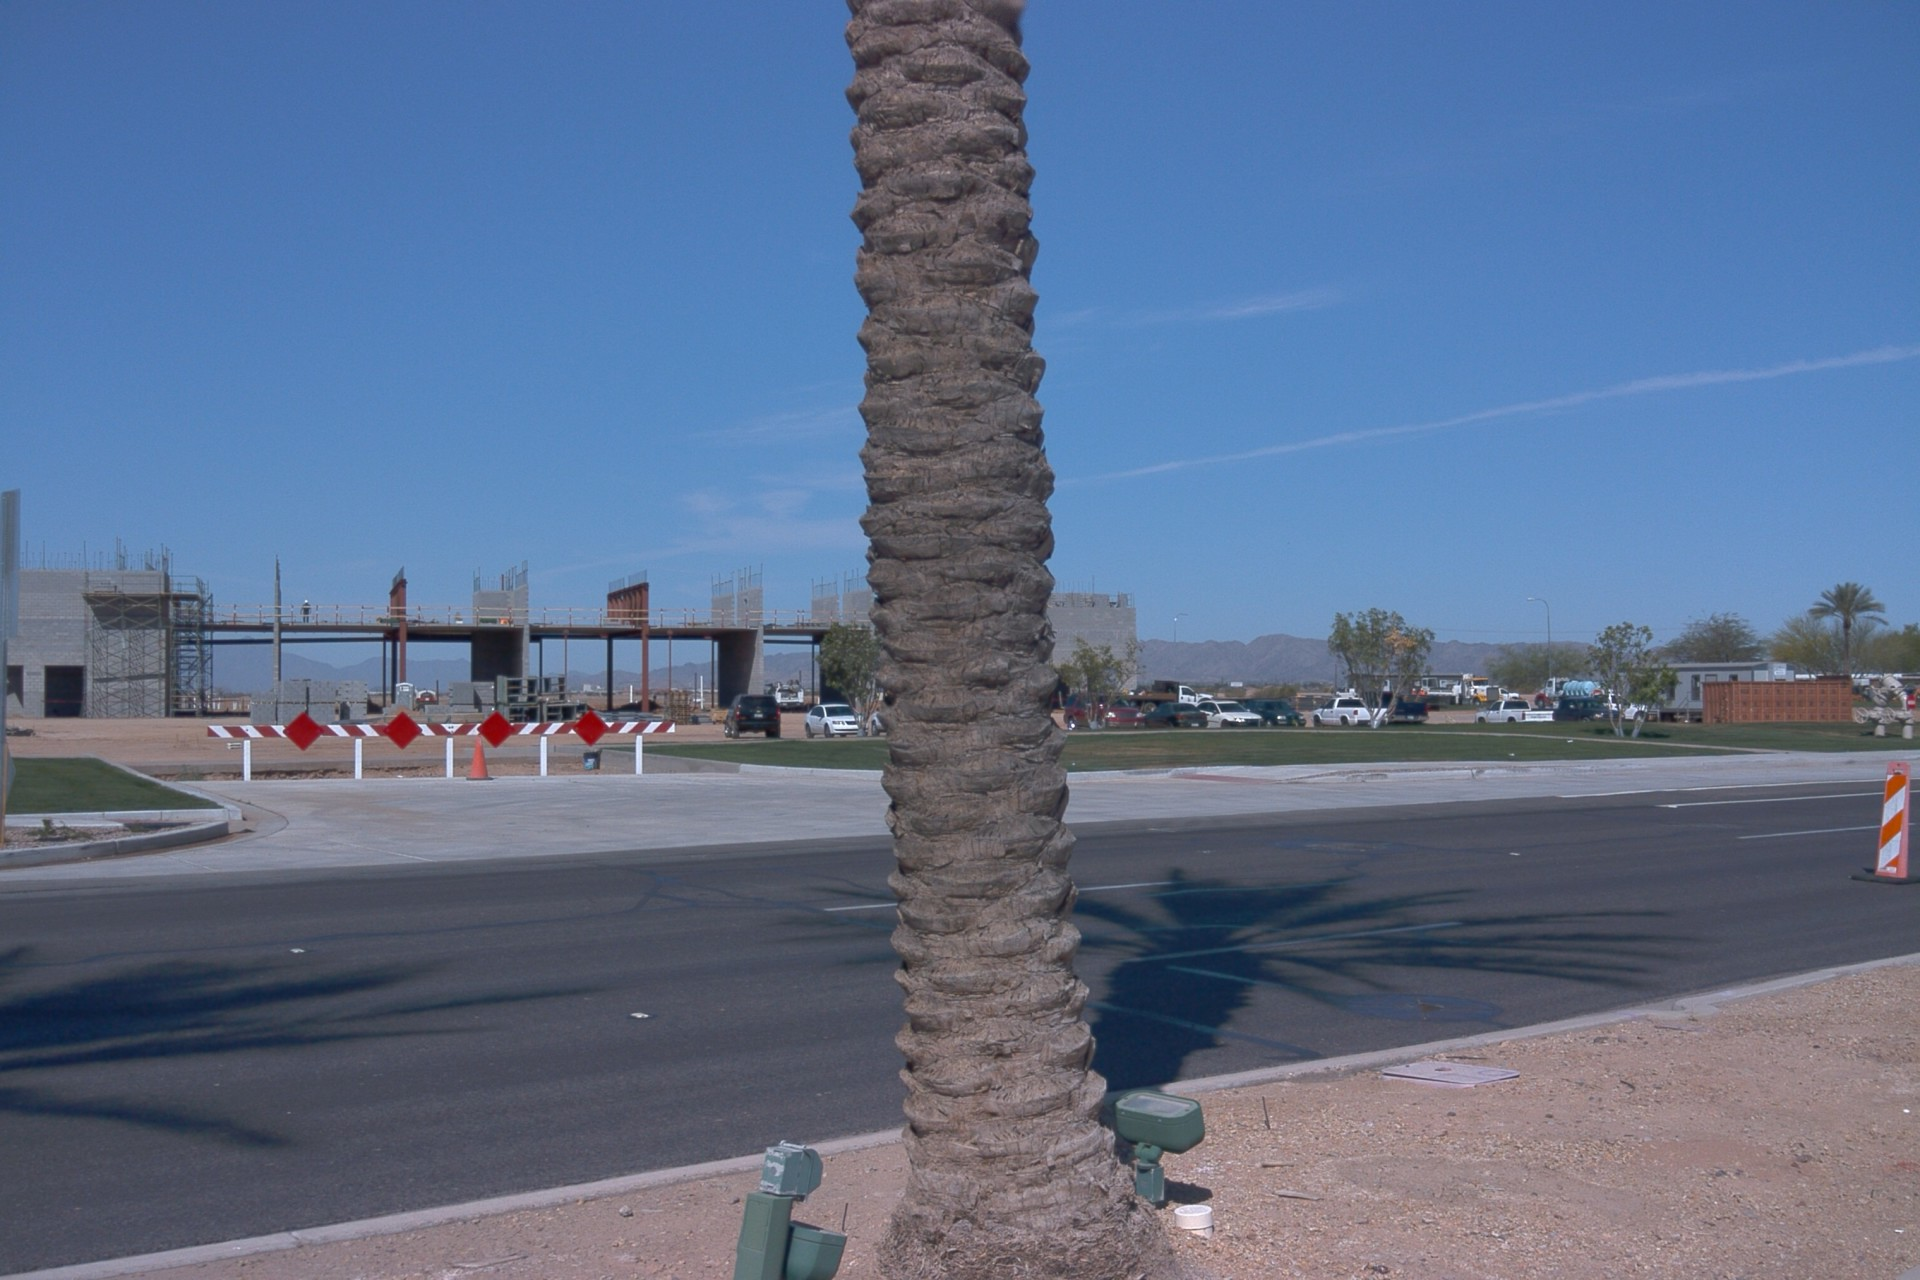TYPE_PEDESTRIAN: (1409, 687, 1417, 696), (1418, 687, 1426, 696)
TYPE_VEHICLE: (1550, 688, 1651, 727), (1125, 678, 1216, 719), (1068, 689, 1148, 733), (1417, 675, 1503, 711), (719, 692, 780, 741), (1533, 690, 1625, 722), (807, 702, 872, 743), (1311, 696, 1390, 729), (1142, 698, 1209, 734), (1364, 688, 1431, 724), (1535, 680, 1603, 715), (1195, 699, 1263, 731), (1246, 697, 1311, 730), (1477, 700, 1556, 722), (765, 682, 809, 715), (871, 706, 887, 739)
